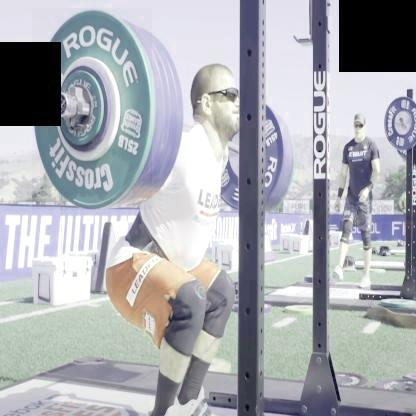barbell: (32, 10, 153, 211)
